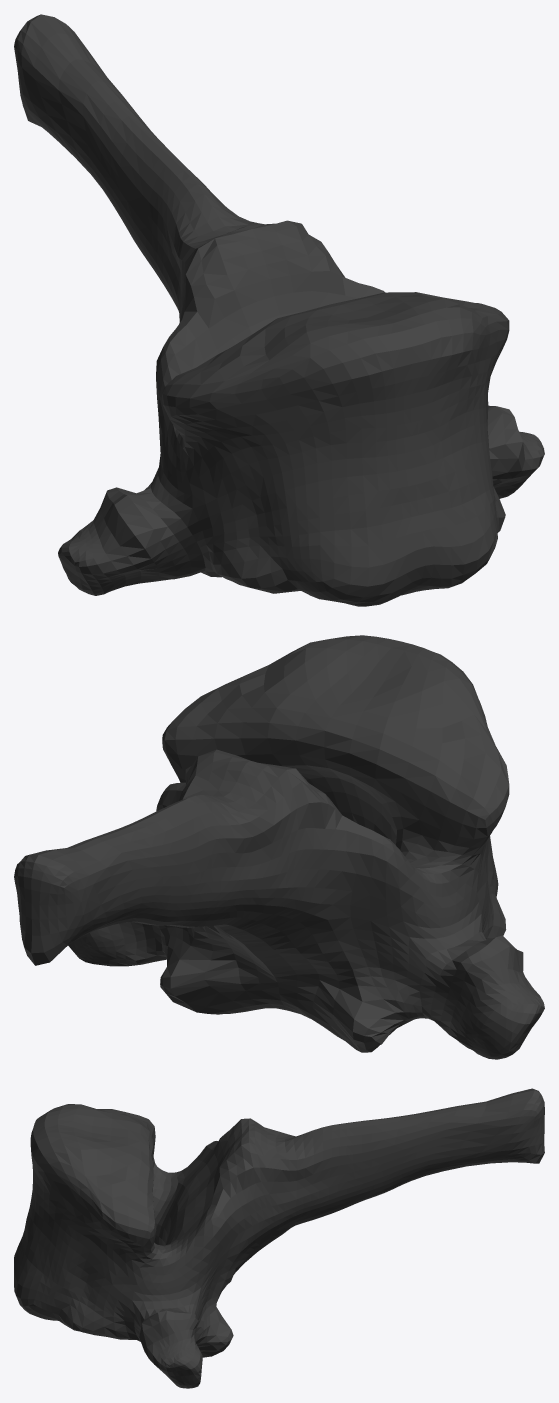
3 views of the same model, one above another, from view 1: azimuth 30°, elevation 25°; view 2: azimuth 150°, elevation 25°; view 3: azimuth 270°, elevation 25° (orthographic). The views are drawn at different scales.
Visible parts, largest first — view 1: B_T4; view 2: B_T4; view 3: B_T4.
Boxes of the visible parts, left/top/right/bottom form: B_T4: left=14, top=14, right=544, bottom=606; B_T4: left=14, top=635, right=544, bottom=1059; B_T4: left=14, top=1088, right=544, bottom=1388.
Size of the model in its own units: 0.00272 by 0.00197 by 0.0039.
Materials: 1 (1 with a texture image).
